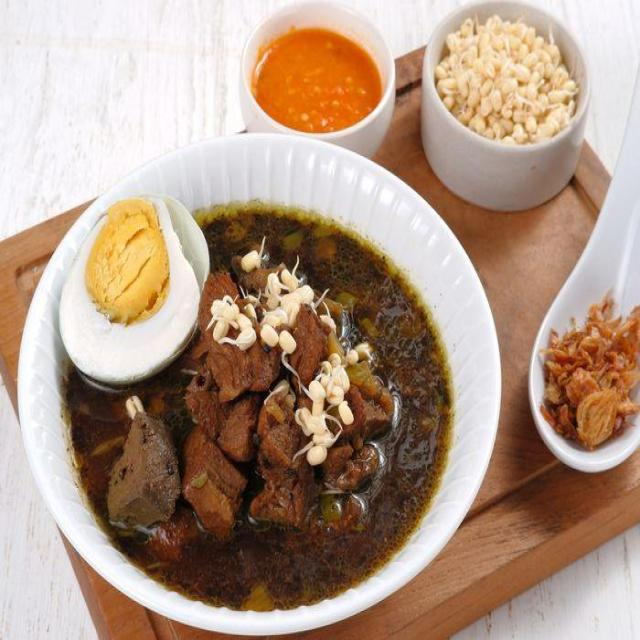Rawon: (105, 222, 422, 582)
